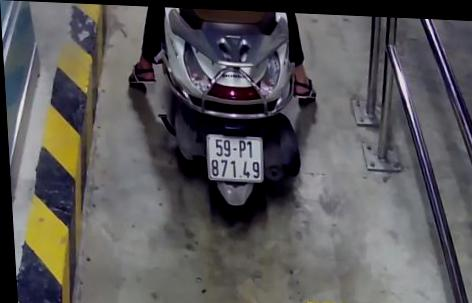License_Plate: (199, 130, 271, 190)
